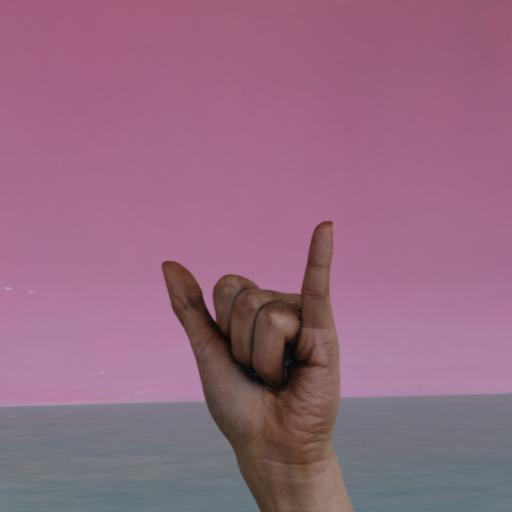Y: (132, 200, 361, 473)
